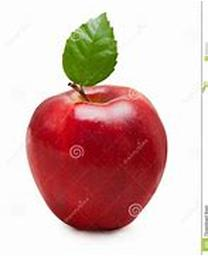apple: (24, 82, 168, 231)
